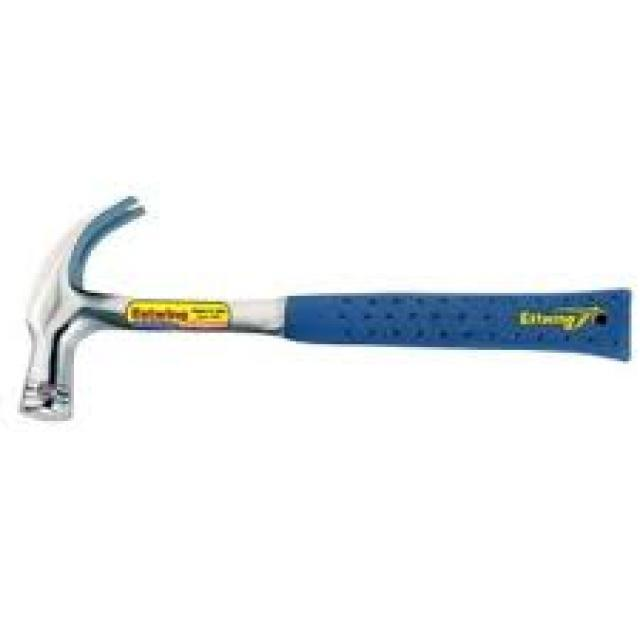hammer: (0, 184, 640, 433)
